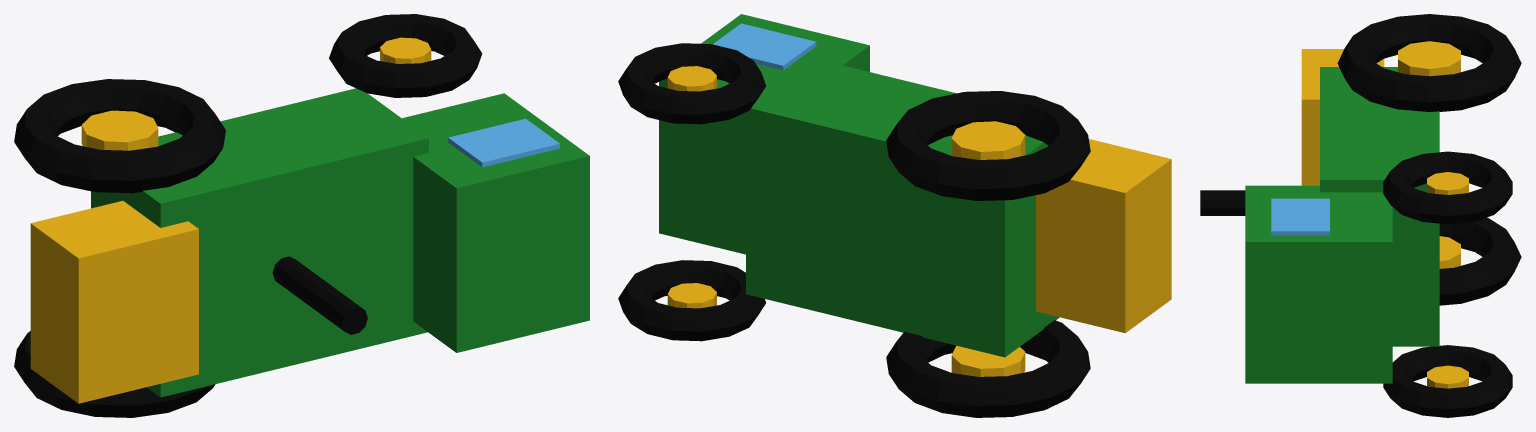
The model's file is tractor.obj.
The picture shows the model from 3 angles, left to right: view 1: azimuth 30°, elevation 25°; view 2: azimuth 150°, elevation 25°; view 3: azimuth 270°, elevation 25°; orthographic projection. The views are drawn at different scales.
Visible parts, largest first — view 1: XYT_generated; view 2: XYT_generated; view 3: XYT_generated.
Boxes of the visible parts, box(x1,y1,x2,y2) form: XYT_generated: box(14, 14, 589, 417); XYT_generated: box(618, 14, 1171, 417); XYT_generated: box(1200, 14, 1521, 417).
Size of the model in its own units: 2.59 by 1.33 by 1.75.
